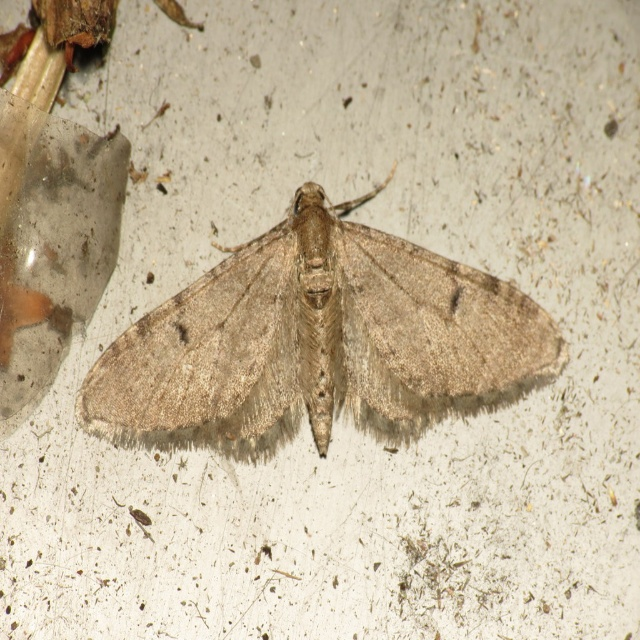Moths and butterflies: (76, 155, 569, 461)
